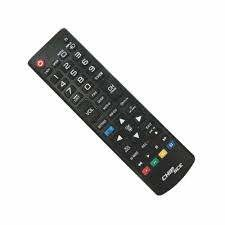remote control: (20, 23, 199, 199)
